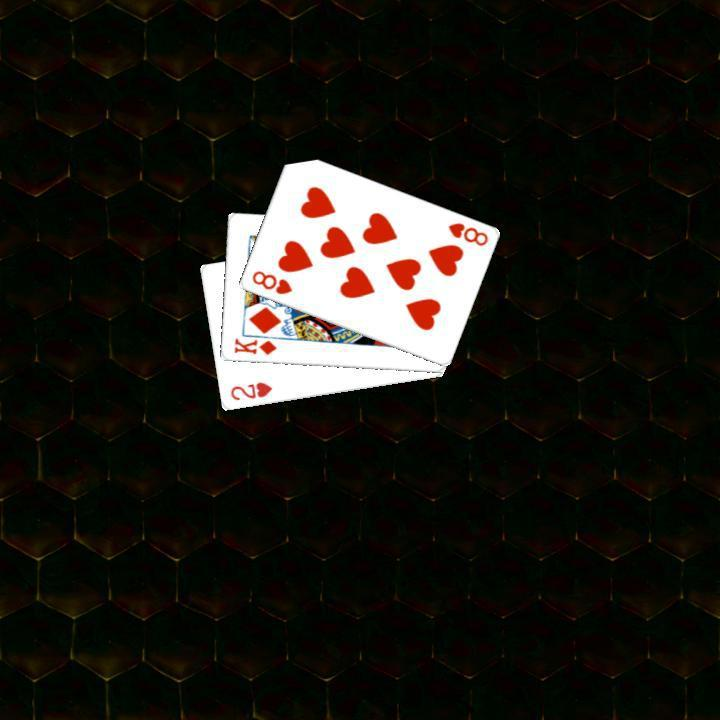2: (226, 378, 274, 403)
8: (247, 266, 294, 297), (443, 218, 490, 248)
K: (229, 334, 278, 357)
